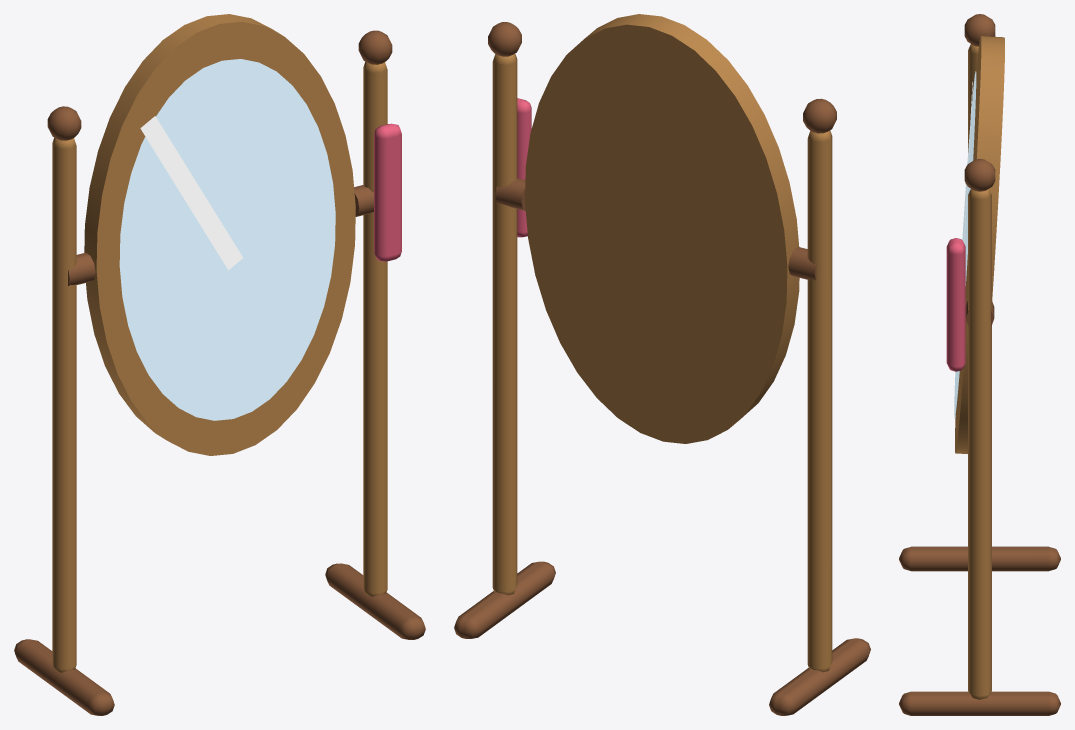
The model's file is mirror-cheval.glb.
3 renders of one model, left to right at view 1: azimuth 30°, elevation 25°; view 2: azimuth 150°, elevation 25°; view 3: azimuth 270°, elevation 25°, orthographic. The views are drawn at different scales.
Size of the model in its own units: 0.7882 by 1.39 by 0.34.
